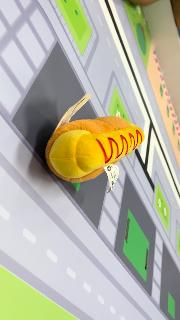hotdog: (44, 116, 146, 184)
